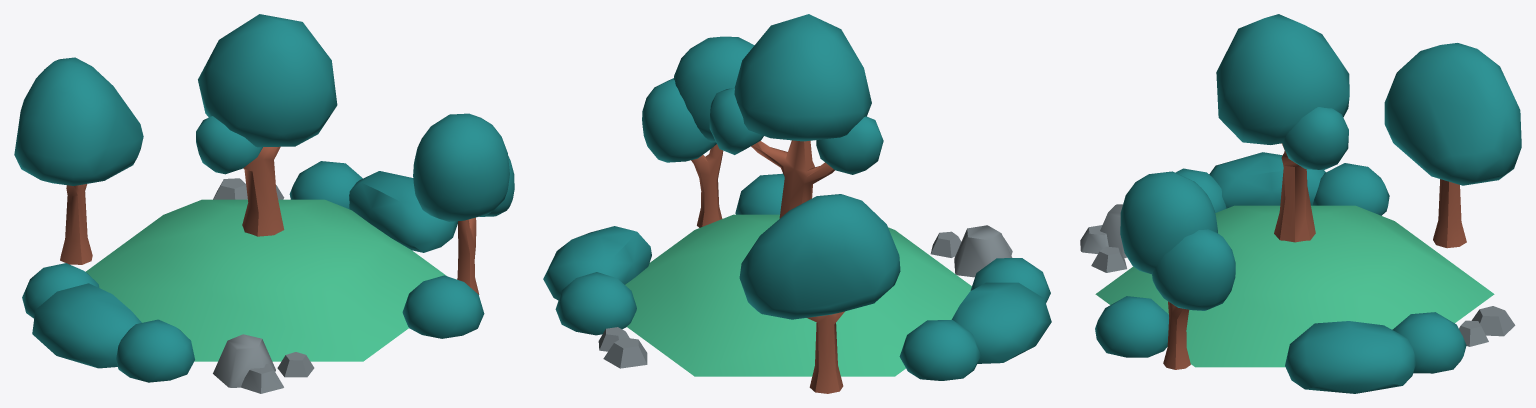
File: detail_hill.glb
3 renders of one model, left to right at view 1: azimuth 30°, elevation 25°; view 2: azimuth 150°, elevation 25°; view 3: azimuth 270°, elevation 25°, orthographic.
Parts seen in each view (by area): view 1: detail_hill; view 2: detail_hill; view 3: detail_hill.
Boxes of the visible parts, x1,y1,x2,y2 form: detail_hill: [14, 14, 514, 393]; detail_hill: [543, 14, 1051, 393]; detail_hill: [1080, 14, 1521, 393].
Bounding box in the file's own units: 3.27 × 1.98 × 2.86.
